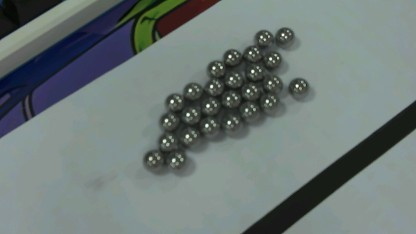ironball: (286, 74, 310, 98), (252, 25, 274, 50), (220, 46, 243, 69), (141, 148, 165, 170), (258, 92, 283, 112), (218, 110, 238, 135), (243, 43, 263, 64), (199, 95, 217, 118), (155, 129, 174, 150), (168, 148, 190, 166), (155, 108, 175, 126), (263, 73, 281, 92), (245, 61, 263, 80), (182, 83, 200, 102), (181, 128, 200, 146), (276, 26, 293, 46), (200, 115, 212, 142), (261, 50, 280, 67), (239, 81, 256, 100), (225, 69, 240, 90), (241, 102, 258, 120), (222, 90, 239, 108), (180, 106, 197, 123), (205, 76, 220, 95), (207, 59, 222, 78), (165, 91, 180, 107)
